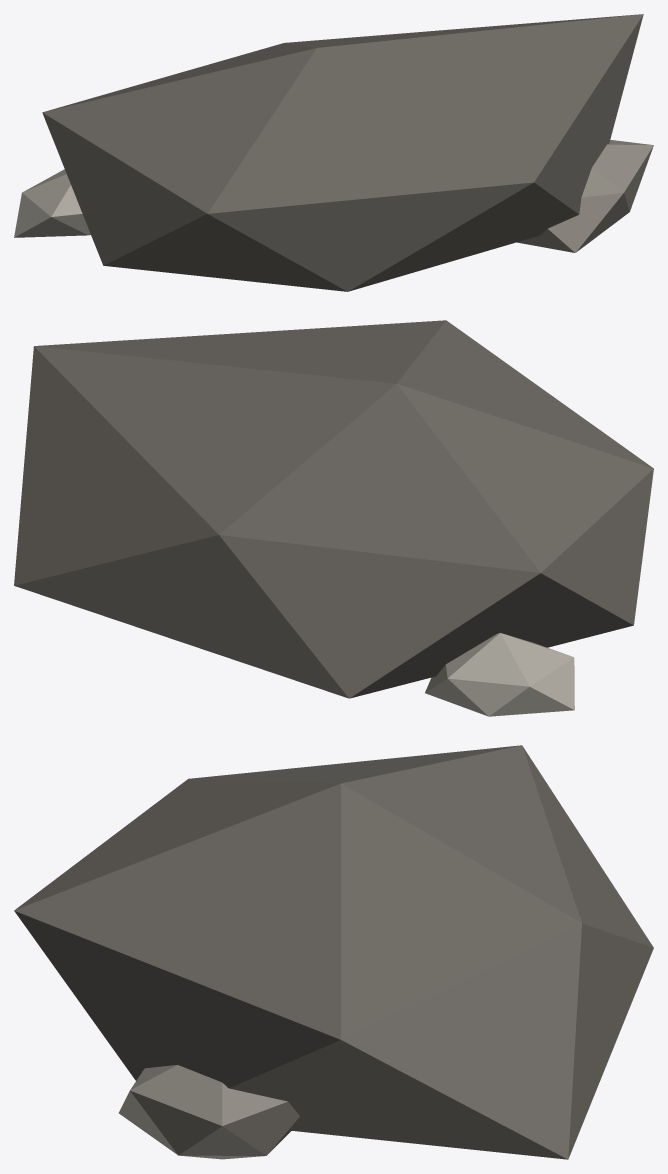
File: gros_rocher.glb
The picture shows the model from 3 angles, top to bottom: view 1: azimuth 30°, elevation 25°; view 2: azimuth 150°, elevation 25°; view 3: azimuth 270°, elevation 25°; orthographic projection. The views are drawn at different scales.
Parts seen in each view (by area): view 1: gros_rocher; view 2: gros_rocher; view 3: gros_rocher.
Part boxes in pixels (x1=…): gros_rocher: x1=14, y1=14, x2=653, y2=291; gros_rocher: x1=14, y1=320, x2=653, y2=716; gros_rocher: x1=14, y1=745, x2=653, y2=1159.
Size of the model in its own units: 6.79 by 2.63 by 5.39.
Materials: 1 (1 with a texture image).
